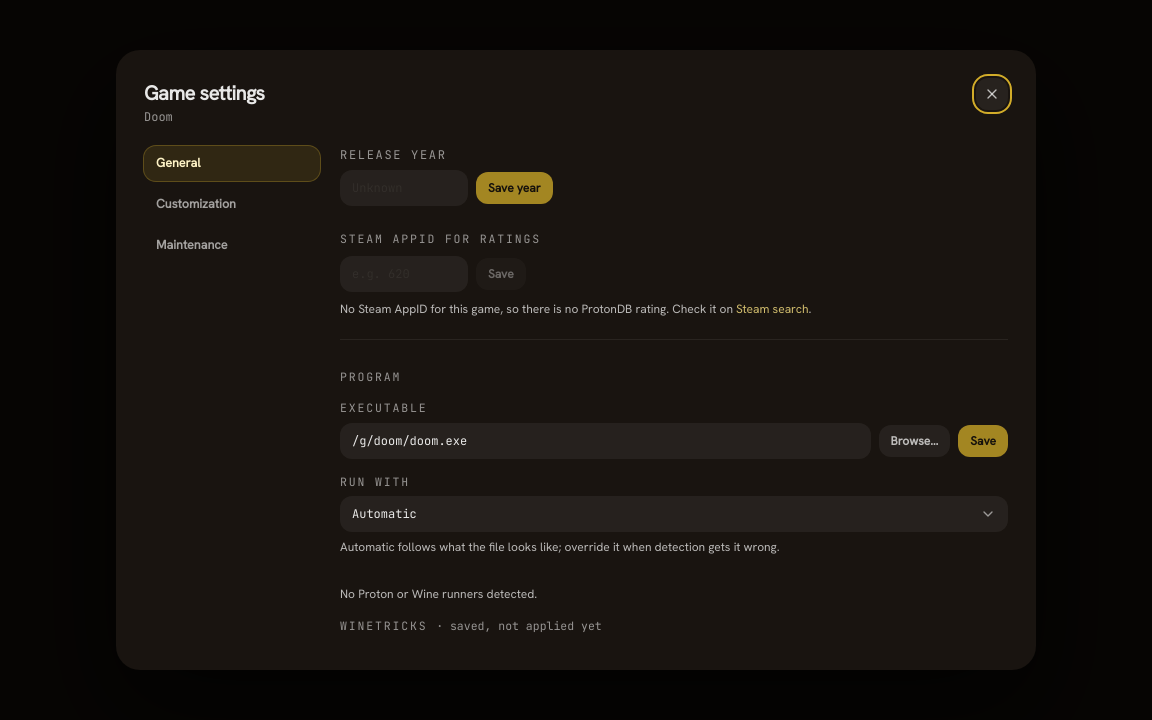
Test case: CustomGameYear (issue #35) › shows a backend refusal
This screenshot has width=1152, height=720.
Type "2011" into the field named "Release year" at coordinates (404, 188), box [340, 170, 468, 206]
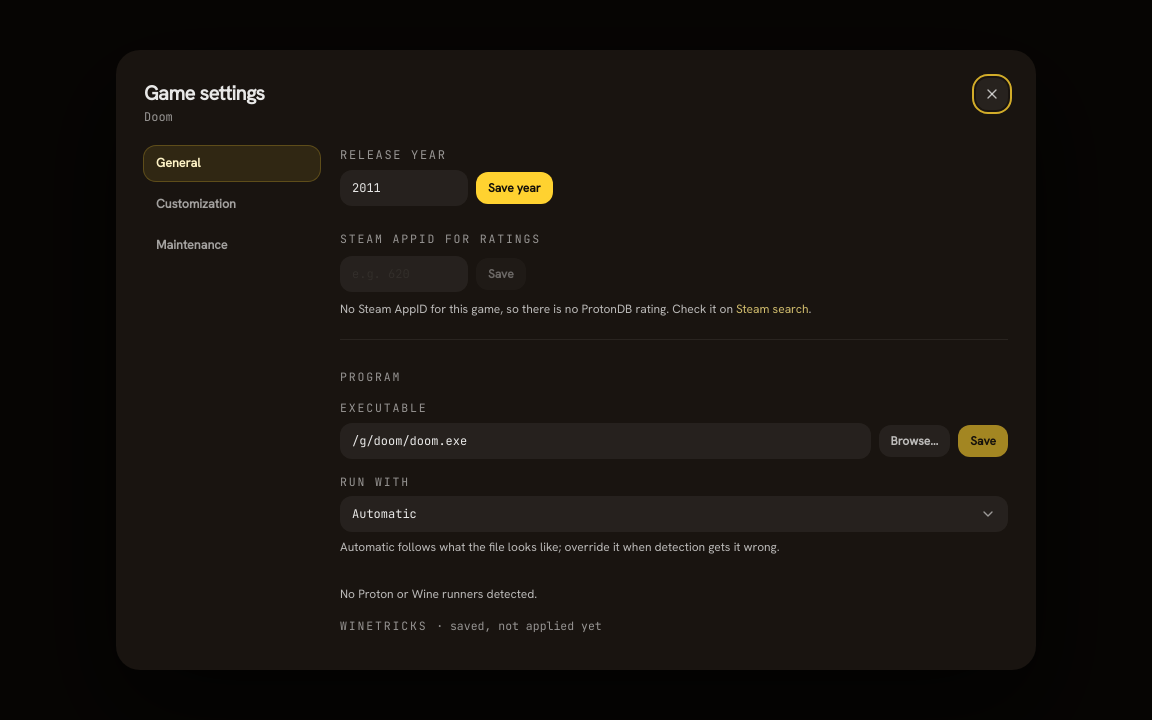
Click the button "Save year" at coordinates (514, 188), box [476, 172, 553, 204]
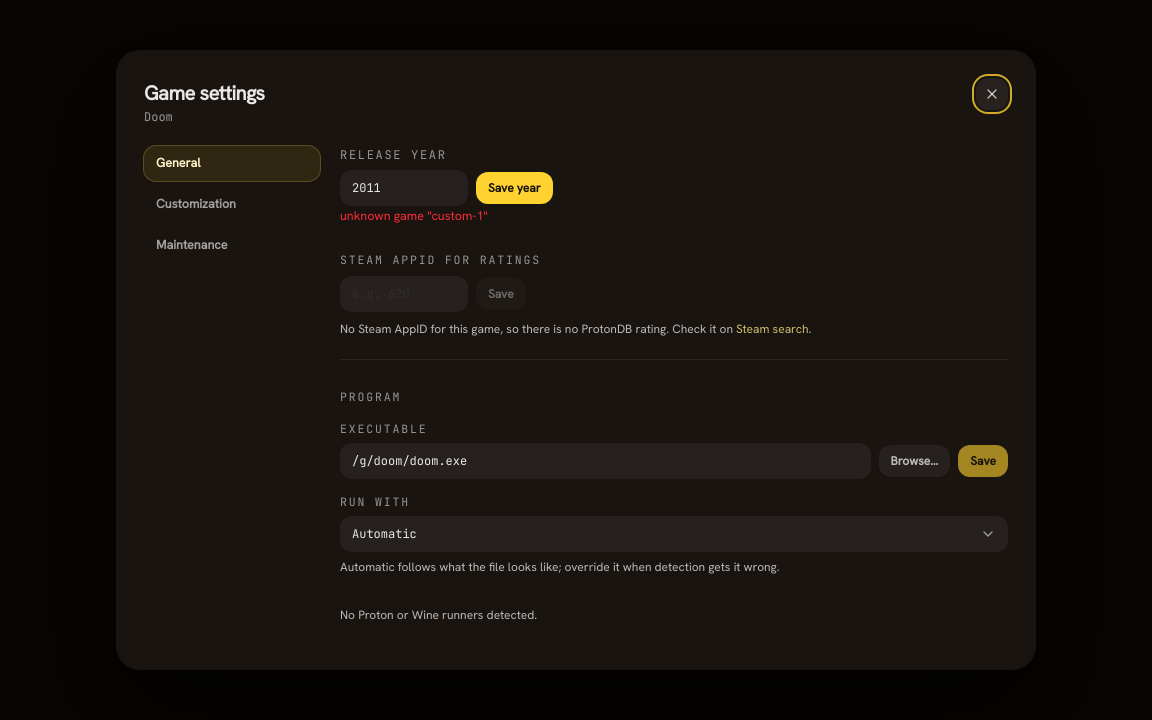
Expected: the text "unknown game \"custom-1\"" is shown, [340, 207, 488, 224]
